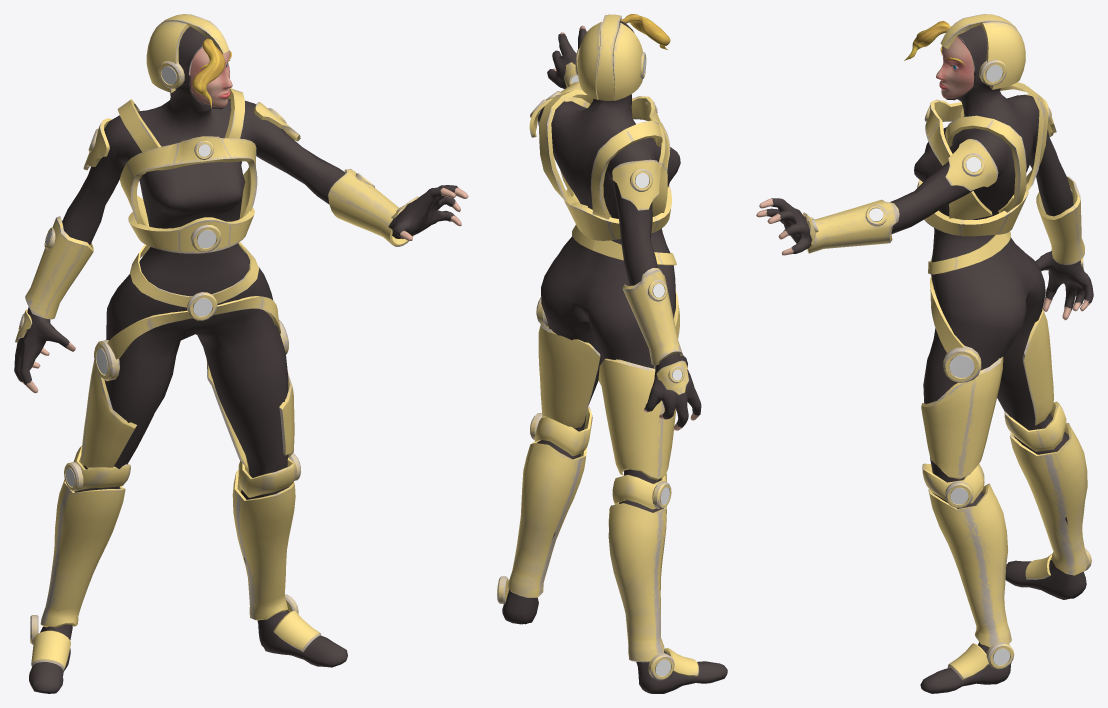
File: RetroAstronaut_Posed_Mesh.fbx
The picture shows the model from 3 angles, left to right: view 1: azimuth 30°, elevation 25°; view 2: azimuth 150°, elevation 25°; view 3: azimuth 270°, elevation 25°; orthographic projection. The views are drawn at different scales.
Visible parts, largest first — view 1: Body_Mesh2, ShinArmor_R_Mesh1, ShinArmor_L_Mesh1, ChestArmor_Mesh1, GauntletArmor_R_Mesh1, polySurface69, ThighArmor_R_Mesh1, GauntletArmor_L_Mesh1, WaistArmorMesh1, Helmet_Mesh1, BeltArmor_Mesh1, KneeArmor_L_Mesh3 (+8 smaller); view 2: Body_Mesh2, ShinArmor_R_Mesh1, ShinArmor_L_Mesh1, ThighArmor_R_Mesh1, ThighArmor_L_Mesh1, Helmet_Mesh1, GauntletArmor_R_Mesh1, ShoulderStrapArmor_R_Mesh1, ShoulderArmor_R_Mesh1, polySurface69, ShoulderStrapArmor_L_Mesh1, KneeArmor_L_Mesh2 (+7 smaller); view 3: Body_Mesh2, ShinArmor_L_Mesh1, ShinArmor_R_Mesh1, ThighArmor_L_Mesh1, Helmet_Mesh1, GauntletArmor_L_Mesh1, ThighArmor_R_Mesh1, ChestArmor_Mesh1, GauntletArmor_R_Mesh1, ShoulderStrapArmor_L_Mesh1, WaistArmorMesh1, ShoulderArmor_L_Mesh1 (+8 smaller).
Boxes of the visible parts, x1,y1,x2,y2 form: Body_Mesh2: [14, 26, 468, 693]; ShinArmor_R_Mesh1: [40, 464, 125, 627]; ShinArmor_L_Mesh1: [232, 470, 295, 620]; ChestArmor_Mesh1: [119, 136, 257, 225]; GauntletArmor_R_Mesh1: [25, 216, 93, 319]; polySurface69: [128, 207, 254, 253]; ThighArmor_R_Mesh1: [81, 339, 136, 468]; GauntletArmor_L_Mesh1: [328, 168, 413, 246]; WaistArmorMesh1: [94, 296, 288, 380]; Helmet_Mesh1: [146, 14, 229, 92]; BeltArmor_Mesh1: [130, 242, 259, 320]; KneeArmor_L_Mesh3: [64, 446, 130, 491]; Body_Mesh2: [502, 21, 727, 693]; ShinArmor_R_Mesh1: [608, 503, 666, 662]; ShinArmor_L_Mesh1: [508, 441, 586, 597]; ThighArmor_R_Mesh1: [598, 358, 676, 480]; ThighArmor_L_Mesh1: [538, 322, 600, 428]; Helmet_Mesh1: [575, 14, 646, 100]; GauntletArmor_R_Mesh1: [622, 268, 682, 365]; ShoulderStrapArmor_R_Mesh1: [590, 120, 662, 219]; ShoulderArmor_R_Mesh1: [612, 159, 660, 210]; polySurface69: [564, 184, 671, 240]; ShoulderStrapArmor_L_Mesh1: [539, 89, 593, 207]; KneeArmor_L_Mesh2: [530, 406, 592, 456]; Body_Mesh2: [756, 25, 1093, 693]; ShinArmor_L_Mesh1: [928, 483, 1011, 647]; ShinArmor_R_Mesh1: [1009, 423, 1088, 575]; ThighArmor_L_Mesh1: [921, 356, 1003, 479]; Helmet_Mesh1: [940, 14, 1025, 89]; GauntletArmor_L_Mesh1: [807, 199, 899, 253]; ThighArmor_R_Mesh1: [1022, 308, 1053, 425]; ChestArmor_Mesh1: [924, 99, 992, 219]; GauntletArmor_R_Mesh1: [1036, 176, 1084, 264]; ShoulderStrapArmor_L_Mesh1: [945, 115, 1026, 212]; WaistArmorMesh1: [929, 276, 981, 382]; ShoulderArmor_L_Mesh1: [945, 139, 998, 191].
Size of the model in its own units: 86.61 by 178 by 87.47.
